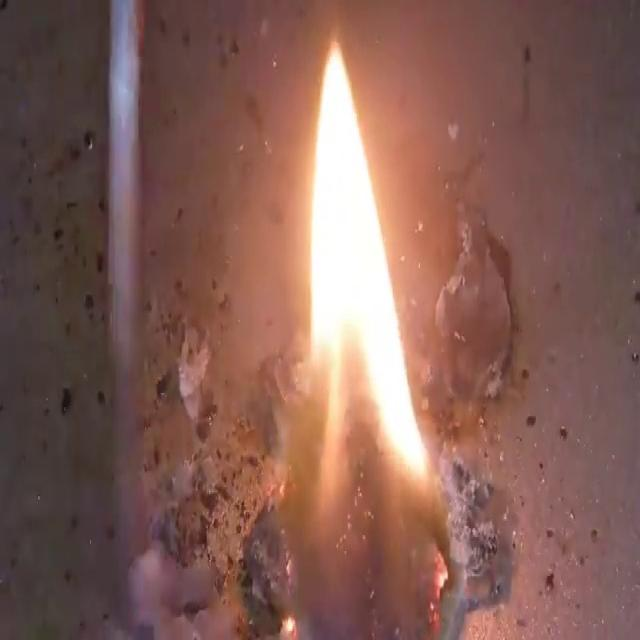Fire: (288, 0, 462, 640)
